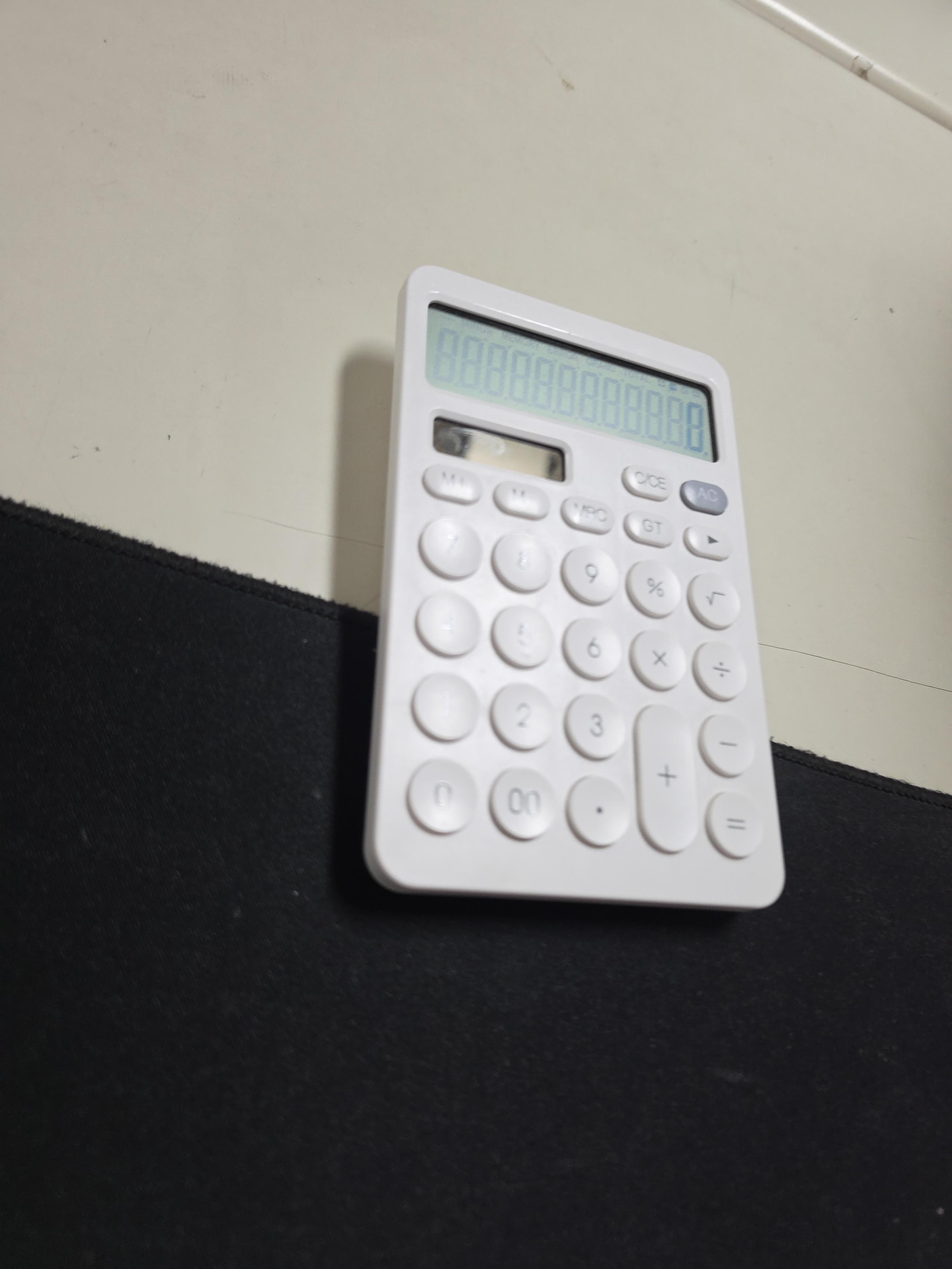calculator: (364, 265, 787, 910)
